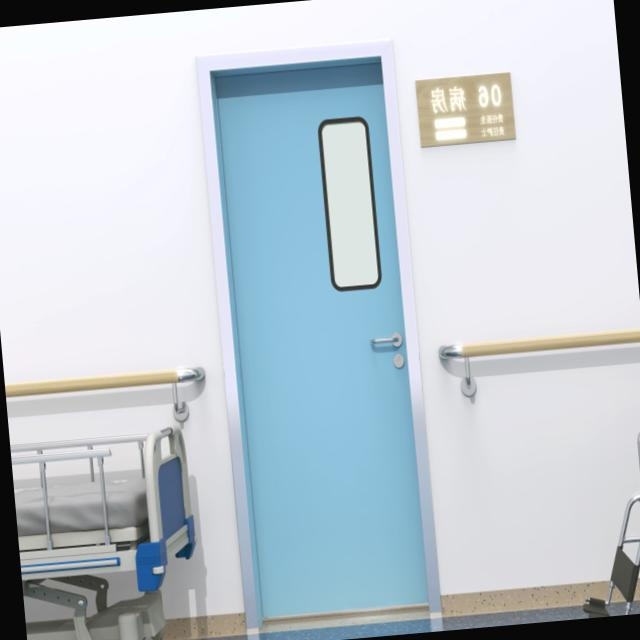door: (196, 40, 441, 629)
